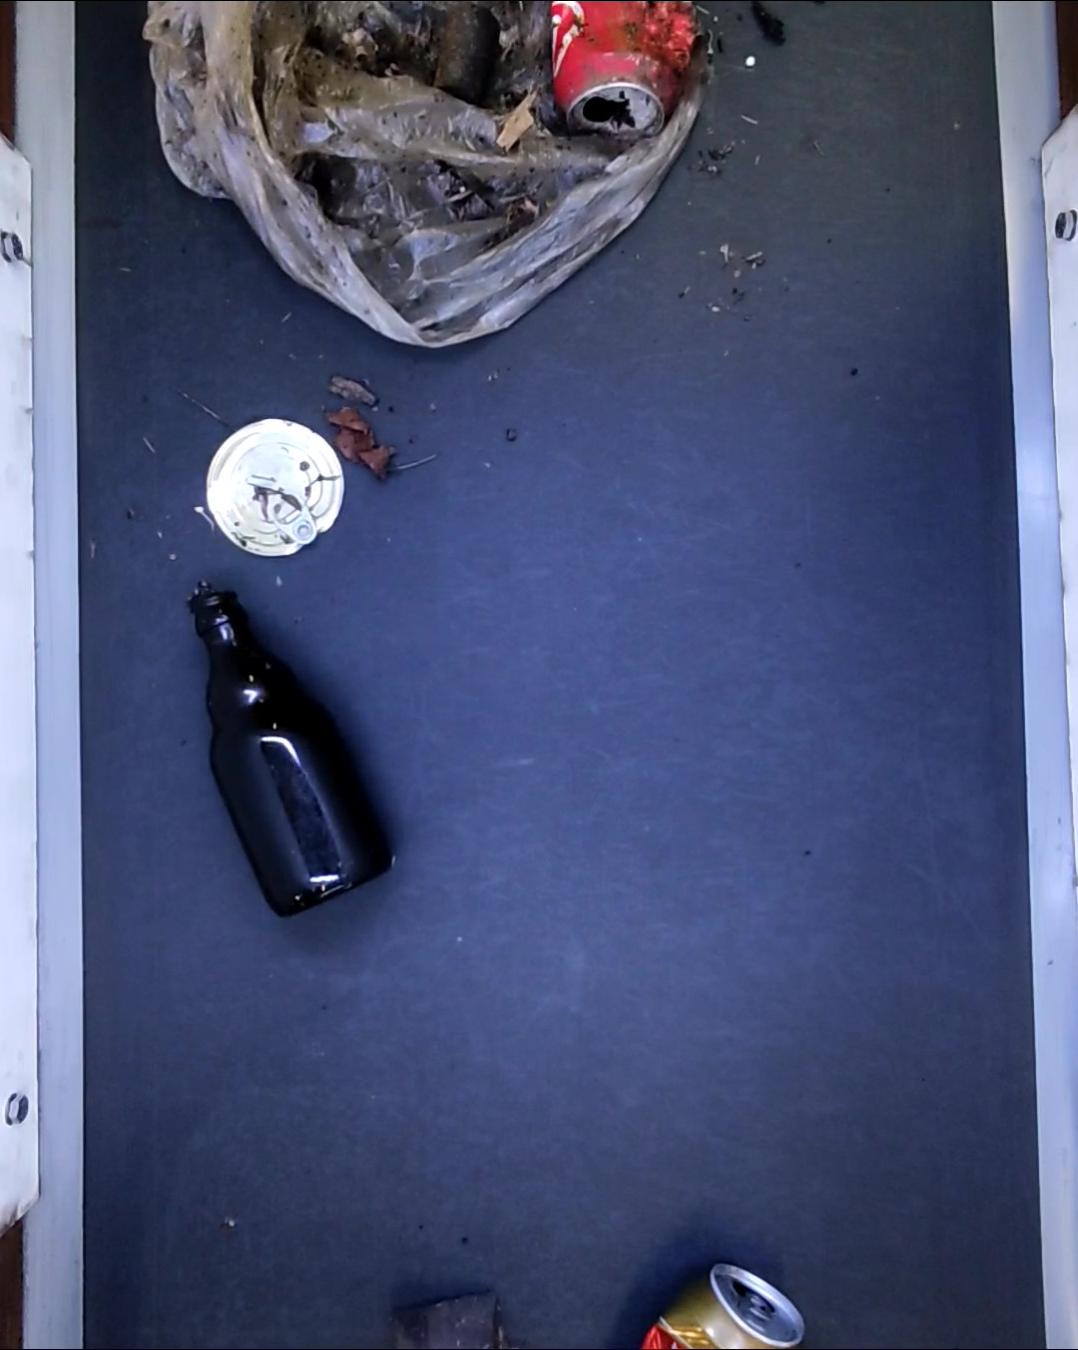Drankblikjes: (552, 0, 700, 140), (636, 1261, 811, 1350)
